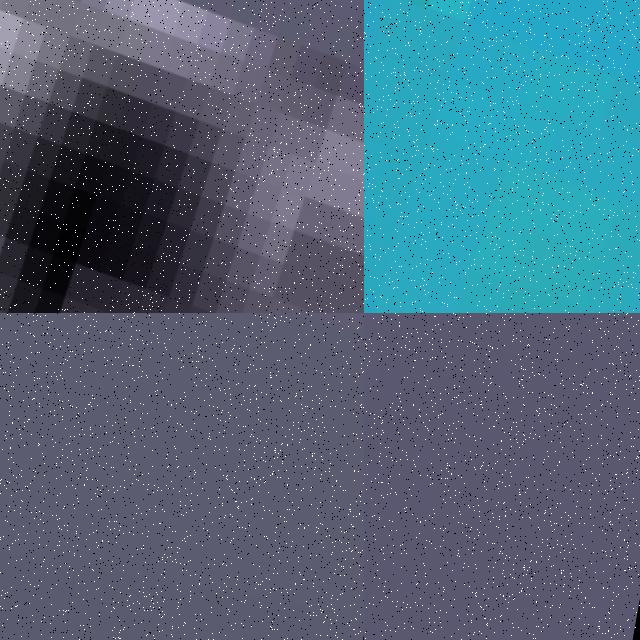0: (0, 0, 364, 313)
drone: (364, 0, 640, 313)
